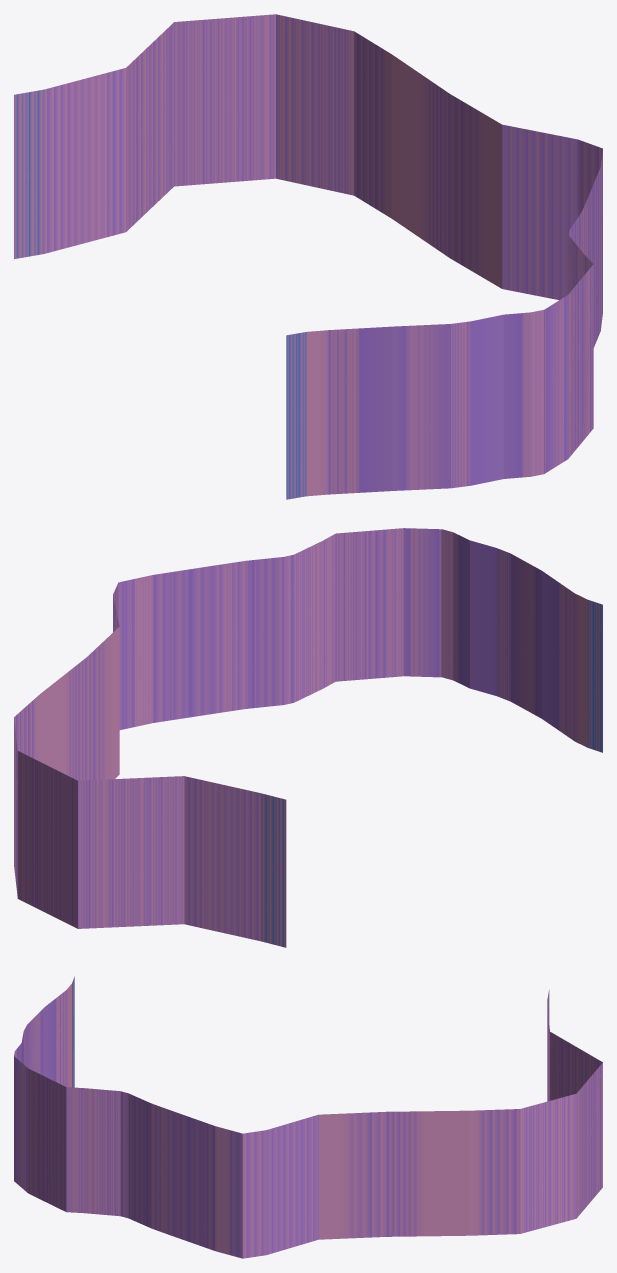
Rendered from groundcollider.obj.
3 views of the same model, one above another, from view 1: azimuth 30°, elevation 25°; view 2: azimuth 150°, elevation 25°; view 3: azimuth 270°, elevation 25° (orthographic). The views are drawn at different scales.
Parts seen in each view (by area): view 1: colliders; view 2: colliders; view 3: colliders.
Part boxes in pixels (x1,y1,x2,y2): colliders: (14,14,602,499); colliders: (14,528,602,947); colliders: (14,976,602,1258).
Bounding box in the file's own units: 48.37 × 18.06 × 75.93.
